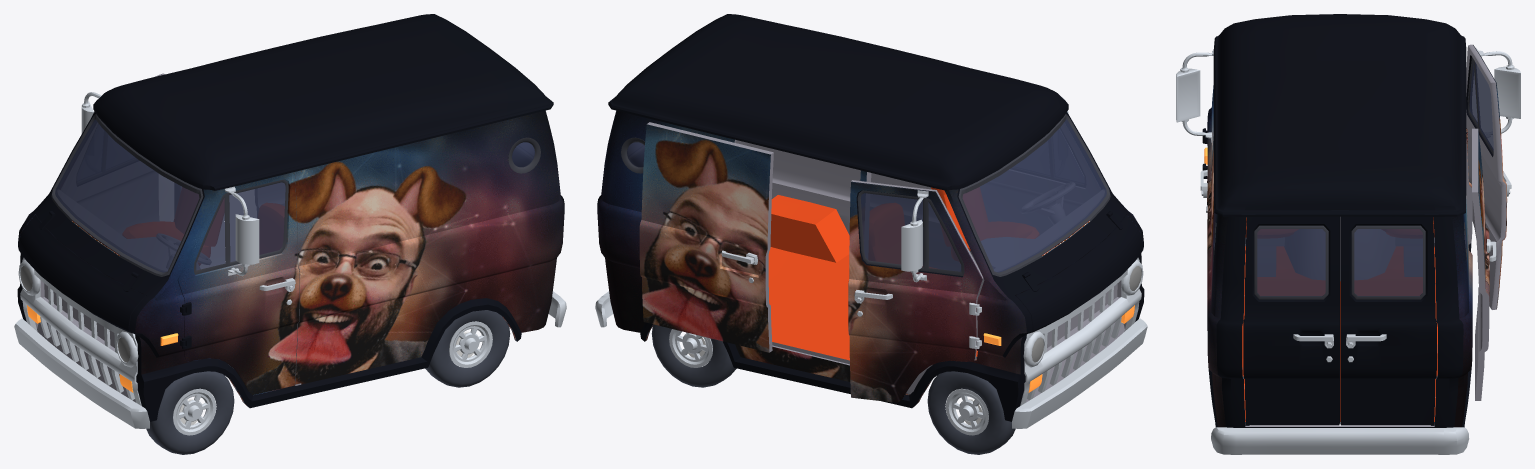
File: snappy.glb
3 views of the same model, side by side, from view 1: azimuth 30°, elevation 25°; view 2: azimuth 150°, elevation 25°; view 3: azimuth 270°, elevation 25° (orthographic). The views are drawn at different scales.
Parts seen in each view (by area): view 1: Group_Locator, Mesh_(6), Mesh_(10), Mesh_(5); view 2: Group_Locator, Mesh_(3), Mesh_(5), Mesh_(4), Mesh_(10), Mesh_(12); view 3: Group_Locator, Mesh_(7), Mesh_(8), Mesh_(5), Mesh_(3), Mesh_(6), Mesh_(4), Mesh_(9).
Boxes of the visible parts, box(x1,y1,x2,y2) form: Group_Locator: box(14, 14, 566, 428); Mesh_(6): box(177, 172, 299, 394); Mesh_(10): box(146, 310, 510, 454); Mesh_(5): box(63, 73, 164, 232); Group_Locator: box(595, 14, 1147, 428); Mesh_(3): box(639, 122, 773, 352); Mesh_(5): box(848, 180, 983, 402); Mesh_(4): box(768, 195, 977, 394); Mesh_(10): box(651, 324, 1015, 454); Mesh_(12): box(869, 183, 1073, 261); Group_Locator: box(1204, 14, 1472, 454); Mesh_(7): box(1340, 216, 1436, 425); Mesh_(8): box(1243, 216, 1339, 425); Mesh_(5): box(1466, 44, 1520, 309); Mesh_(3): box(1472, 128, 1496, 400); Mesh_(6): box(1176, 50, 1213, 212); Mesh_(4): box(1242, 246, 1437, 421); Mesh_(9): box(1289, 217, 1394, 280).
Size of the model in its own units: 10.44 by 6.37 by 6.52.
Materials: 12 (3 with a texture image).
